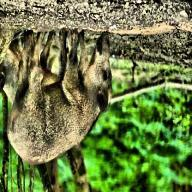boar: (6, 11, 134, 172)
